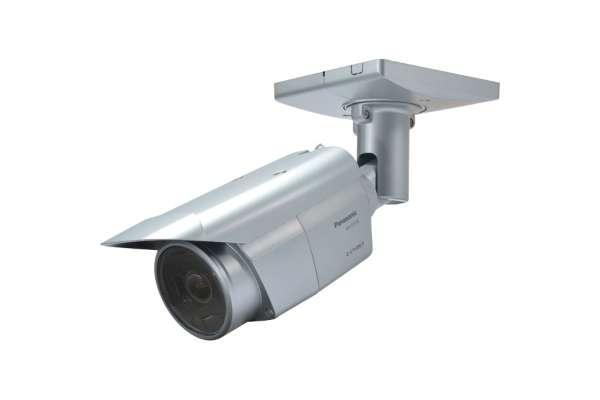tutu: (100, 54, 498, 345)
